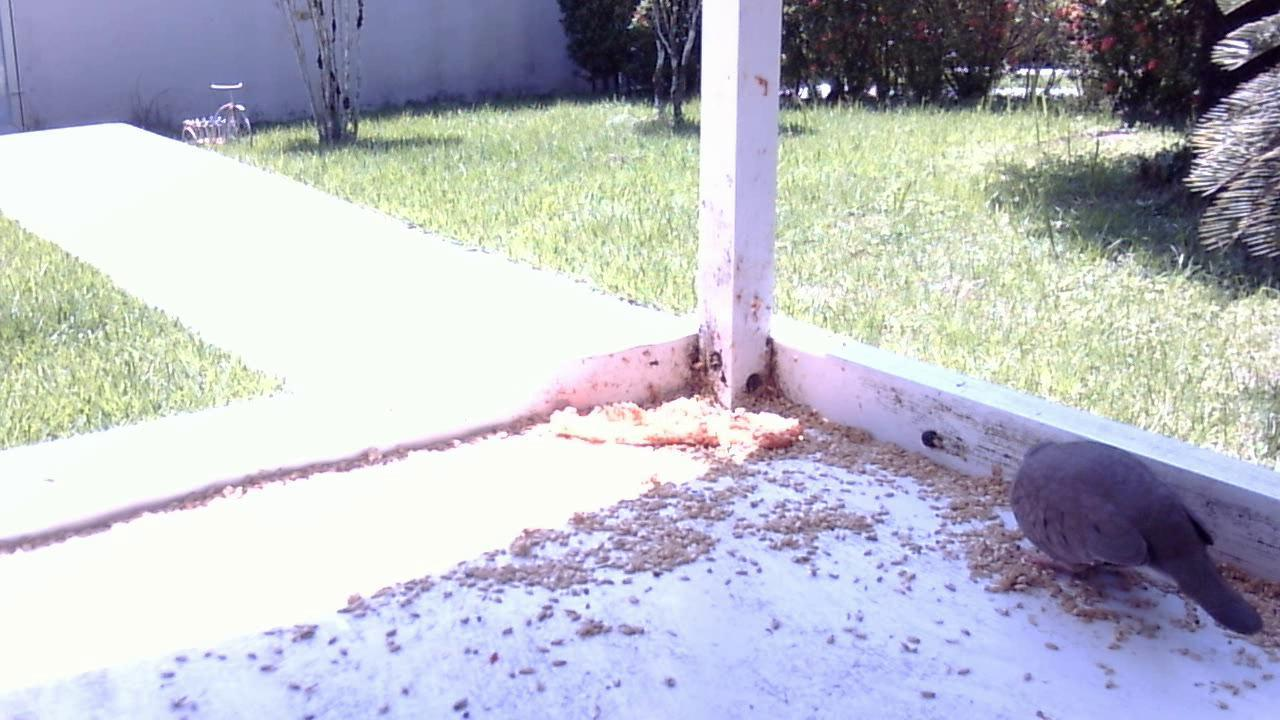rolinha: (978, 428, 1275, 644)
